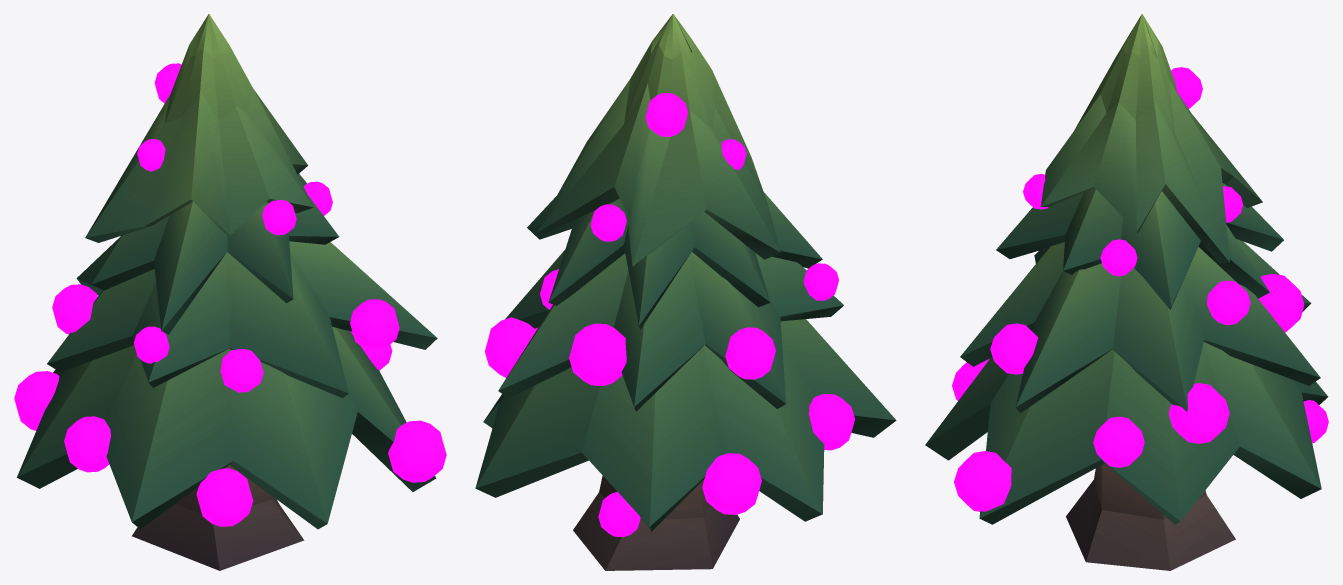
The model's file is elka red.glb.
3 views of the same model, side by side, from view 1: azimuth 30°, elevation 25°; view 2: azimuth 150°, elevation 25°; view 3: azimuth 270°, elevation 25° (orthographic). The views are drawn at different scales.
Visible parts, largest first — view 1: 22__treetop_001_chris, 23__treetop_002_chris, 25__treetop_004_chris, 2__sphere_red_004_chr, 24__treetop_003_chris, 1__christmas; view 2: 22__treetop_001_chris, 25__treetop_004_chris, 23__treetop_002_chris, 2__sphere_red_004_chr, 24__treetop_003_chris, 1__christmas; view 3: 22__treetop_001_chris, 23__treetop_002_chris, 25__treetop_004_chris, 2__sphere_red_004_chr, 24__treetop_003_chris, 1__christmas.
Boxes of the visible parts, box(x1,y1,x2,y2) form: 22__treetop_001_chris: box(17, 327, 436, 529); 23__treetop_002_chris: box(47, 237, 437, 397); 25__treetop_004_chris: box(85, 14, 313, 242); 2__sphere_red_004_chr: box(14, 63, 446, 526); 24__treetop_003_chris: box(91, 174, 339, 334); 1__christmas: box(132, 465, 304, 570); 22__treetop_001_chris: box(475, 319, 896, 531); 25__treetop_004_chris: box(536, 14, 780, 266); 23__treetop_002_chris: box(498, 250, 843, 411); 2__sphere_red_004_chr: box(485, 93, 854, 537); 24__treetop_003_chris: box(527, 191, 822, 329); 1__christmas: box(573, 476, 739, 570); 22__treetop_001_chris: box(925, 342, 1328, 524); 23__treetop_002_chris: box(960, 239, 1320, 413); 25__treetop_004_chris: box(1041, 14, 1262, 263); 2__sphere_red_004_chr: box(952, 67, 1328, 511); 24__treetop_003_chris: box(996, 183, 1283, 309); 1__christmas: box(1066, 463, 1235, 570).
Bounding box in the file's own units: 6.75 × 9.91 × 7.03.
6 materials, 5 textured.
